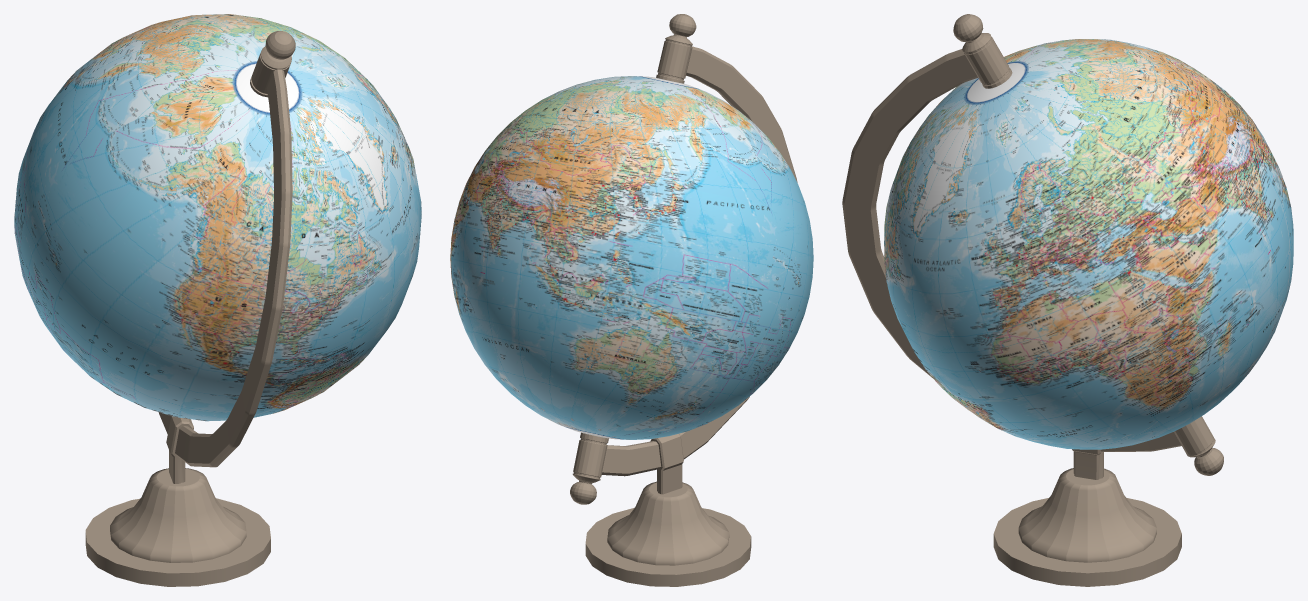
Rendered from Globe (1).fbx.
The picture shows the model from 3 angles, left to right: view 1: azimuth 30°, elevation 25°; view 2: azimuth 150°, elevation 25°; view 3: azimuth 270°, elevation 25°; orthographic projection. The views are drawn at different scales.
Parts seen in each view (by area): view 1: Globe, Frame; view 2: Globe, Frame; view 3: Globe, Frame.
Boxes of the visible parts, x1,y1,x2,y2 form: Globe: [14, 14, 421, 421]; Frame: [85, 31, 295, 586]; Globe: [450, 76, 813, 439]; Frame: [570, 14, 797, 586]; Globe: [884, 39, 1293, 449]; Frame: [842, 14, 1223, 586].
Size of the model in its own units: 3.03 by 4.49 by 3.32.
2 materials, 2 textured.
